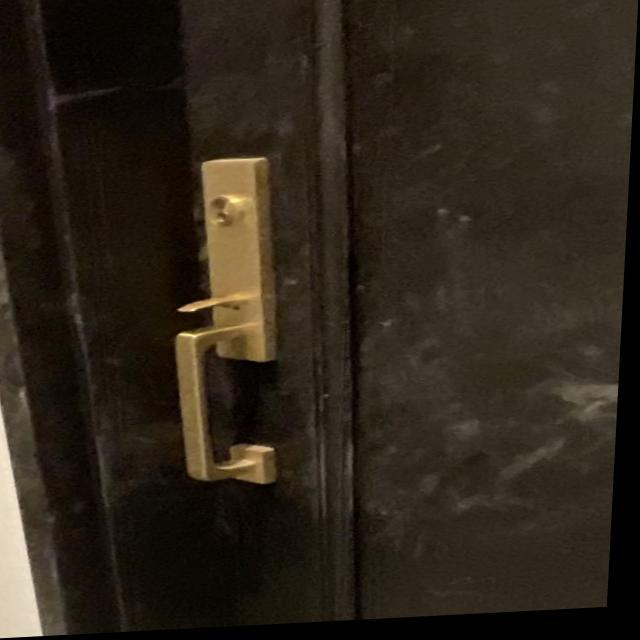door_handle: (147, 317, 312, 500)
